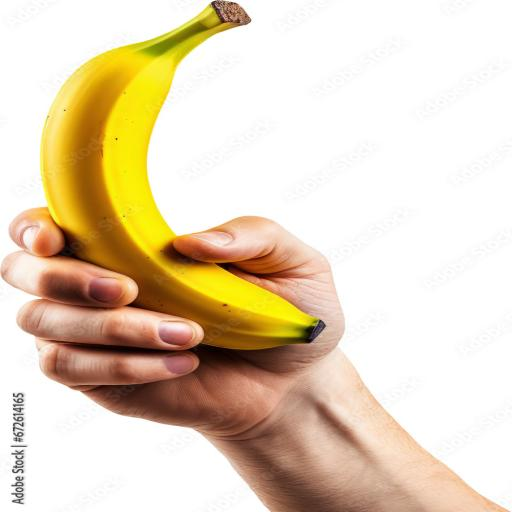banana: (42, 2, 324, 349)
